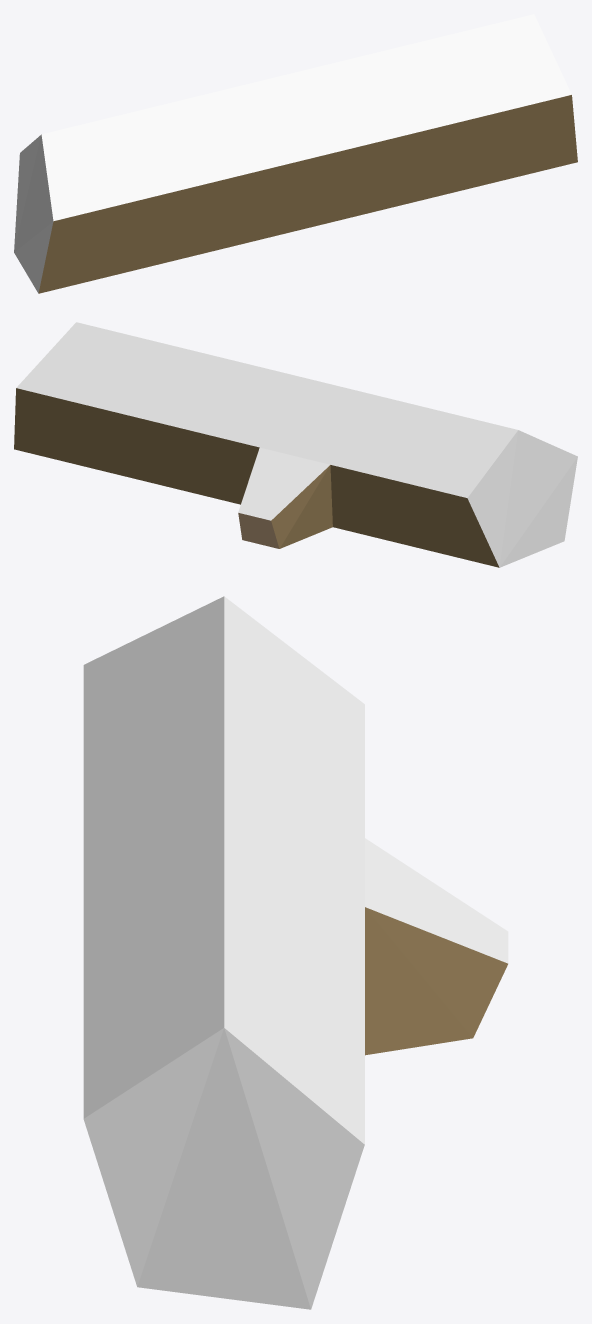
File: Acacia_Firewood_Snow_02_LOD.fbx
The picture shows the model from 3 angles, top to bottom: view 1: azimuth 30°, elevation 25°; view 2: azimuth 150°, elevation 25°; view 3: azimuth 270°, elevation 25°; orthographic projection. The views are drawn at different scales.
Parts seen in each view (by area): view 1: Acacia_Firewood_Snow_02_LOD0; view 2: Acacia_Firewood_Snow_02_LOD0; view 3: Acacia_Firewood_Snow_02_LOD0.
Part boxes in pixels (x1,y1,x2,y2): Acacia_Firewood_Snow_02_LOD0: [14, 14, 577, 293]; Acacia_Firewood_Snow_02_LOD0: [14, 322, 577, 567]; Acacia_Firewood_Snow_02_LOD0: [83, 596, 508, 1309].
Size of what is drawn, in the model's own units: 54.97 by 12.56 by 19.95.
